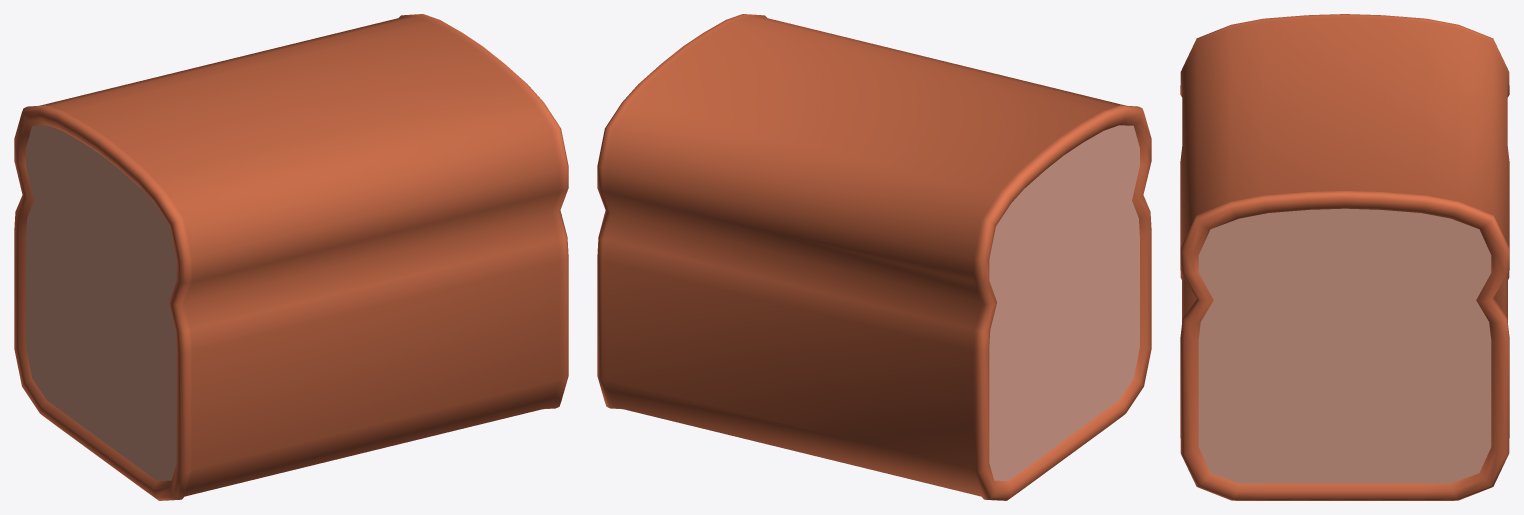
Rendered from Bread_Toast_V2_00.fbx.
3 renders of one model, left to right at view 1: azimuth 30°, elevation 25°; view 2: azimuth 150°, elevation 25°; view 3: azimuth 270°, elevation 25°, orthographic. The views are drawn at different scales.
Visible parts, largest first — view 1: Bread_Toast_V2_00; view 2: Bread_Toast_V2_00; view 3: Bread_Toast_V2_00.
Part boxes in pixels (x1=…): Bread_Toast_V2_00: x1=14, y1=14, x2=568, y2=500; Bread_Toast_V2_00: x1=597, y1=14, x2=1151, y2=500; Bread_Toast_V2_00: x1=1180, y1=14, x2=1509, y2=500.
Bounding box in the file's own units: 53.02 × 41.85 × 40.44.
